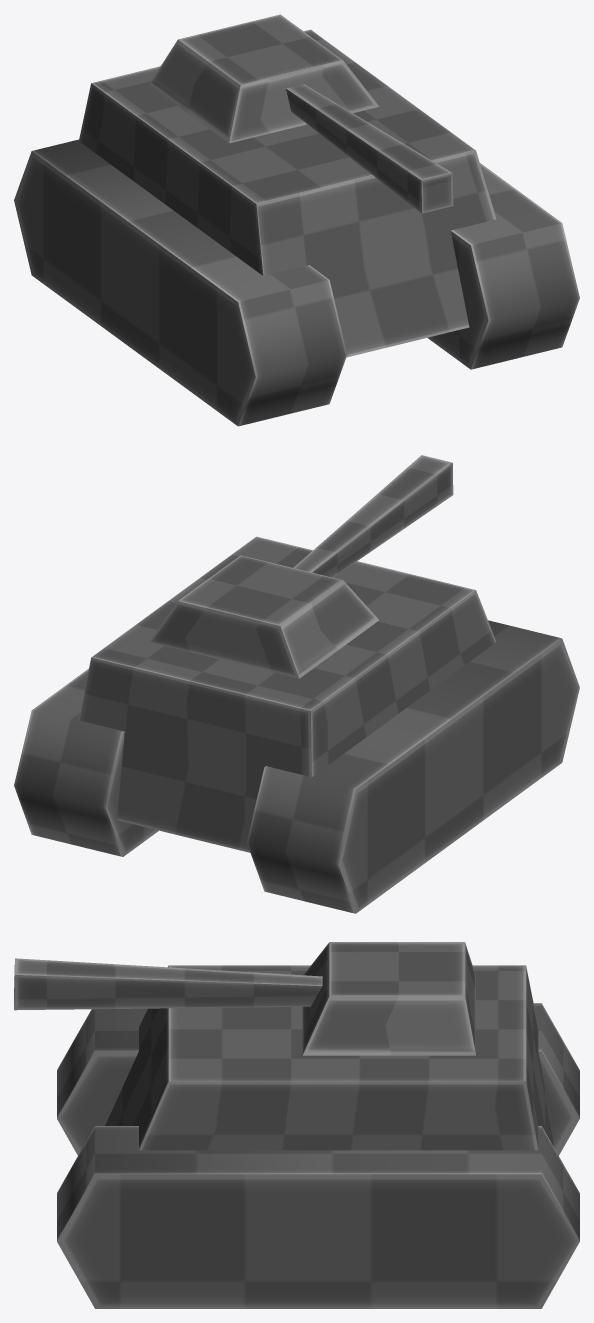
The model's file is tank1478.FBX.
The picture shows the model from 3 angles, top to bottom: view 1: azimuth 30°, elevation 25°; view 2: azimuth 150°, elevation 25°; view 3: azimuth 270°, elevation 25°; orthographic projection. The views are drawn at different scales.
Visible parts, largest first — view 1: vehicle, trackR, trackL, turret, canon; view 2: vehicle, trackR, turret, trackL, canon; view 3: trackL, vehicle, turret, canon, trackR.
Boxes of the visible parts, x1,y1,x2,y2 form: vehicle: (79, 29, 496, 357); trackR: (14, 139, 346, 426); trackL: (427, 163, 579, 369); turret: (149, 14, 379, 143); canon: (286, 84, 453, 213); vehicle: (79, 536, 496, 852); trackR: (246, 620, 579, 913); turret: (149, 555, 379, 678); trackL: (14, 668, 158, 856); canon: (293, 455, 453, 577); trackL: (57, 1126, 579, 1308); vehicle: (105, 965, 554, 1150); turret: (302, 942, 475, 1055); canon: (14, 958, 322, 1010); trackR: (57, 1003, 579, 1155).
Bounding box in the file's own units: 70.88 × 49.56 × 99.06.
